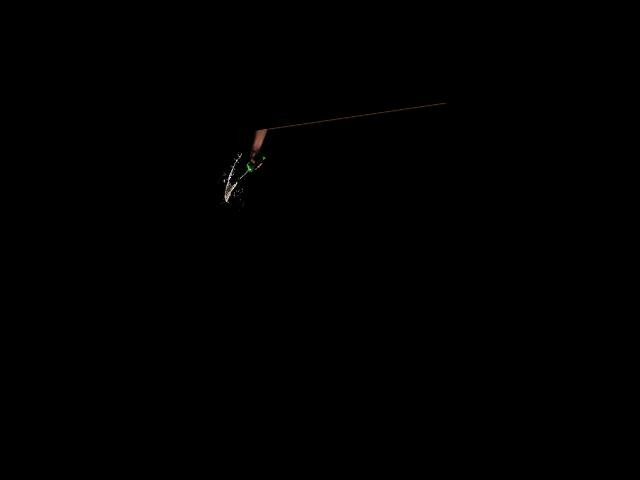beer: (234, 151, 269, 180)
